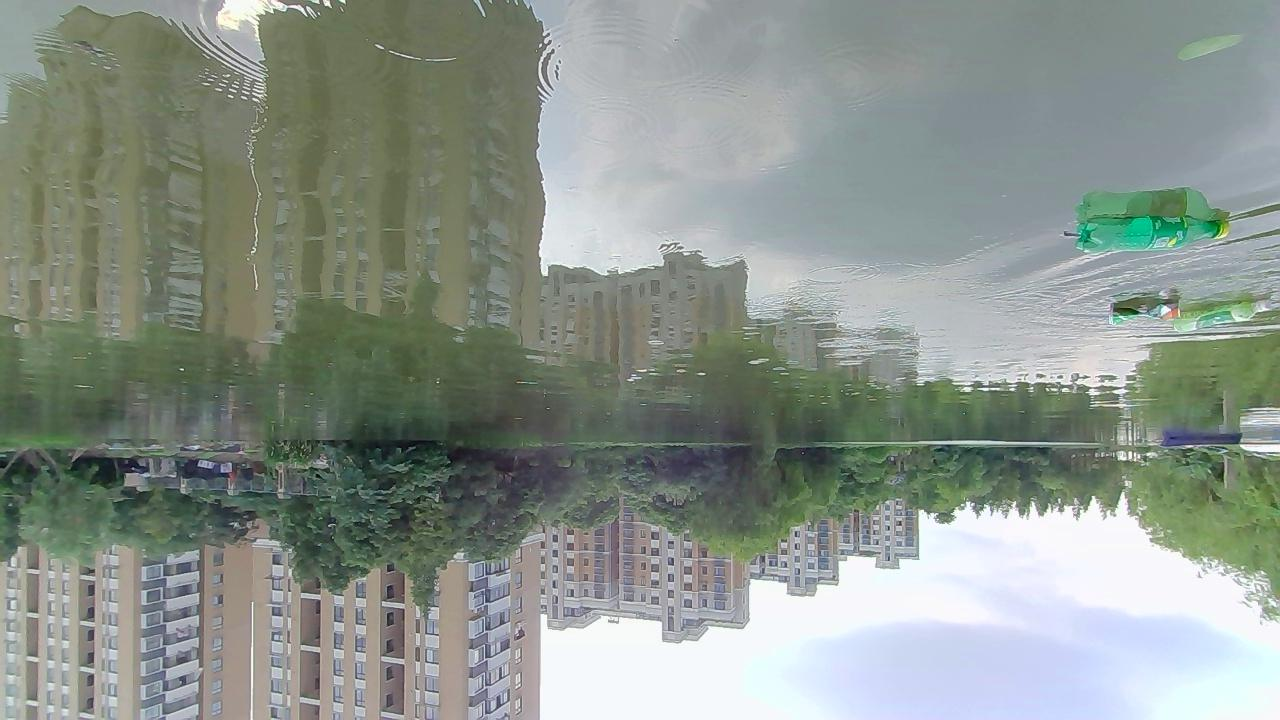Metal: (1107, 298, 1181, 327)
Plastic: (1075, 213, 1231, 257), (1172, 297, 1273, 333)
